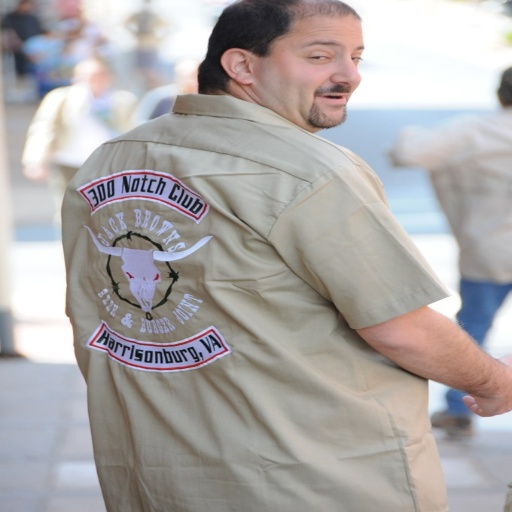hand: (378, 280, 492, 404)
